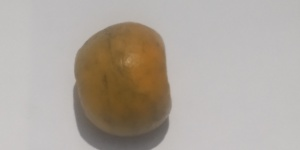BAD: (74, 23, 172, 138)
